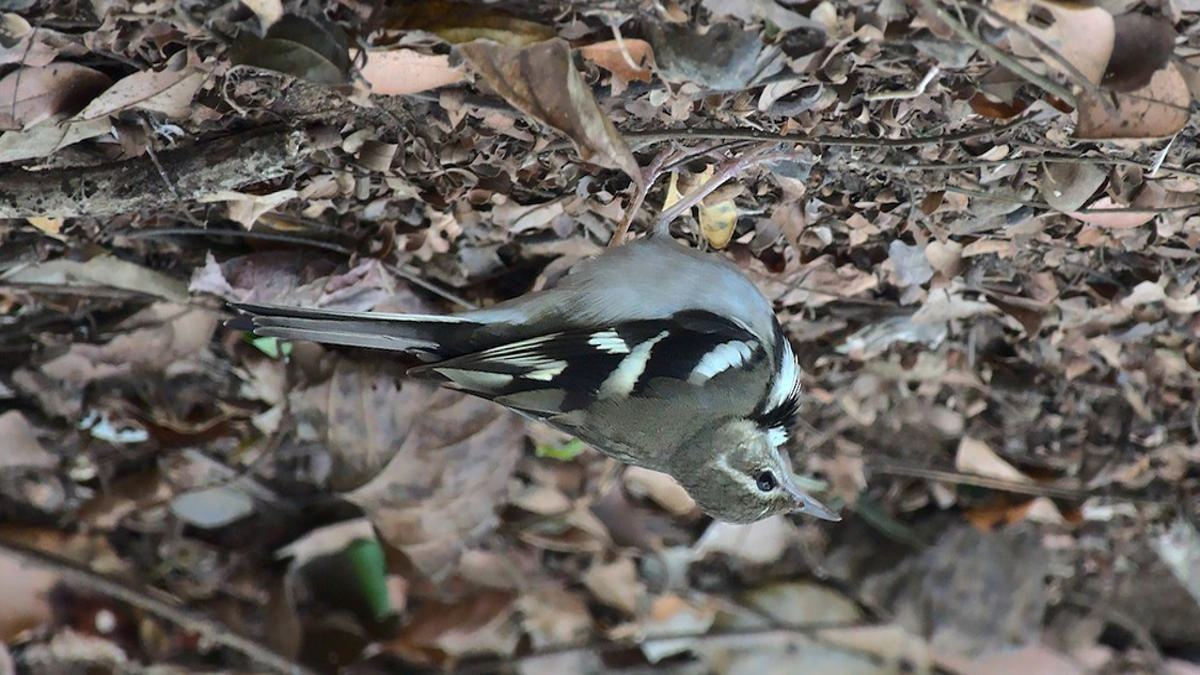wagtail: (304, 210, 843, 537)
